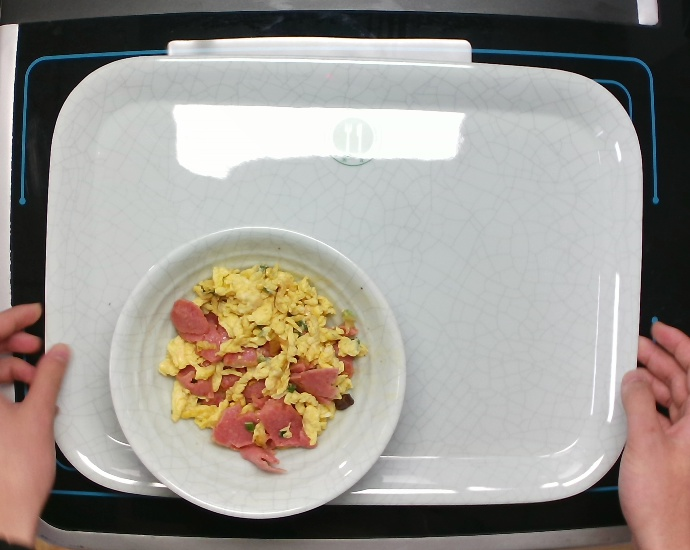JYsf-Xiao_Tang_Wan: (109, 214, 407, 523)
